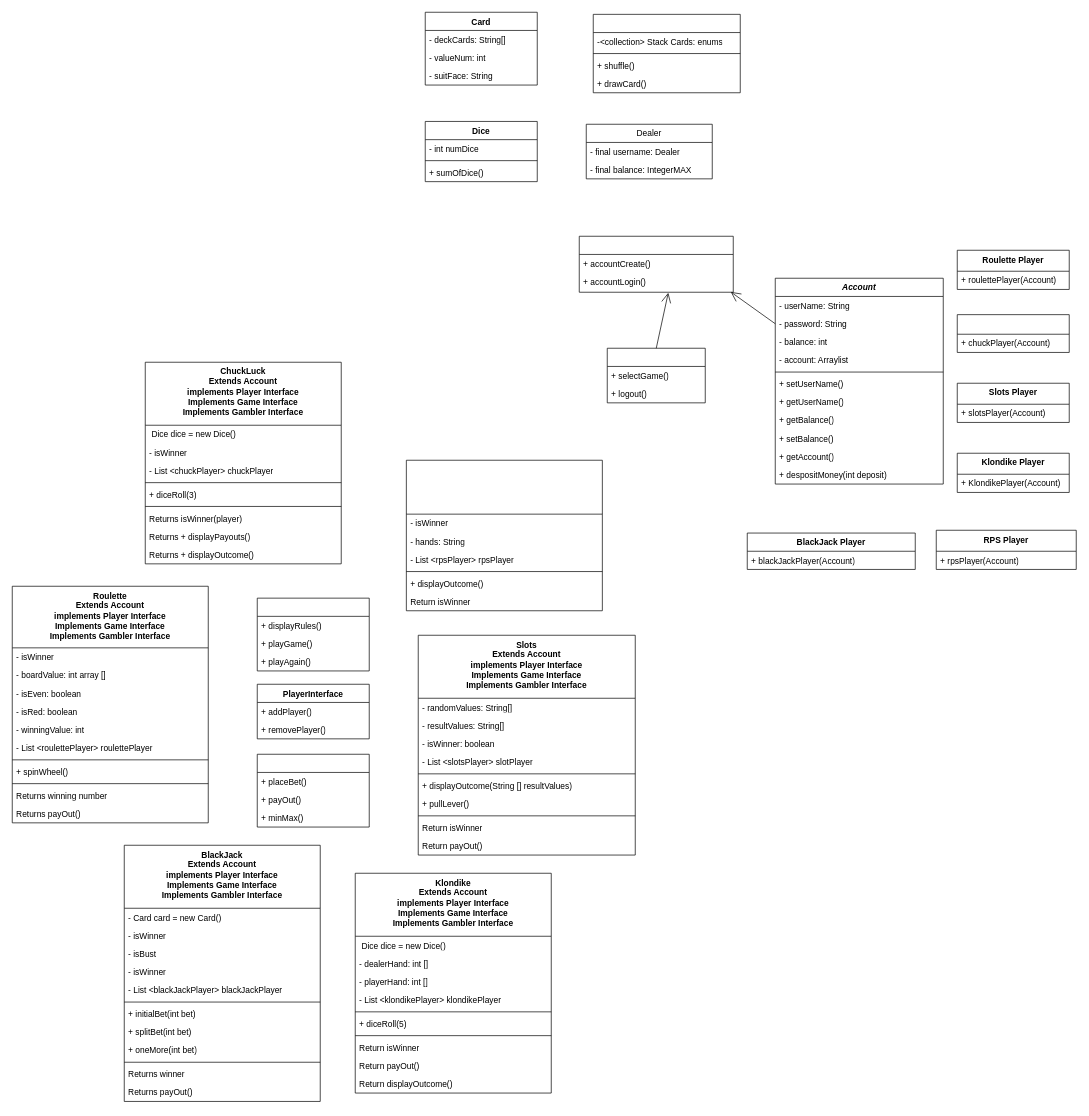
The diagram is 1089 pixels wide and 1116 high, and some of its shapes have lost their labels. The box of each missing label's shape, as (x1, y1, x2, y2) in pixels:
Casino: (579, 236, 733, 292)
ChuckofLuck Player: (957, 314, 1069, 352)
Console: (607, 348, 705, 403)
Deck: (593, 14, 740, 93)
GamblerInterface: (257, 754, 369, 827)
GameInterface: (257, 597, 369, 671)
RPS Extends Account Implments Game interface Implements Player Interface: (406, 460, 602, 611)
